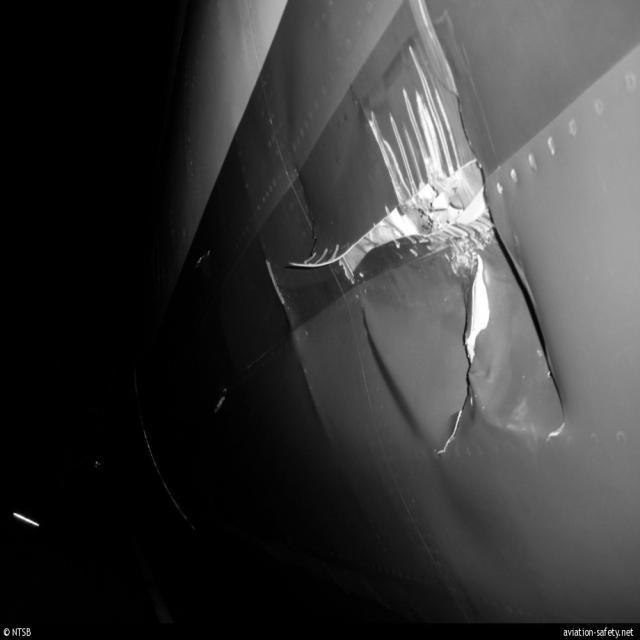crack: (439, 247, 490, 458)
